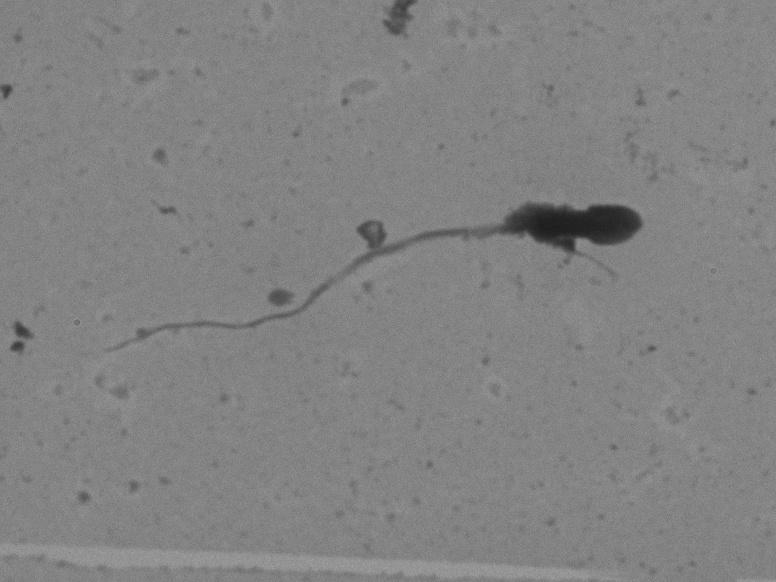Abnormal: (100, 170, 672, 398)
